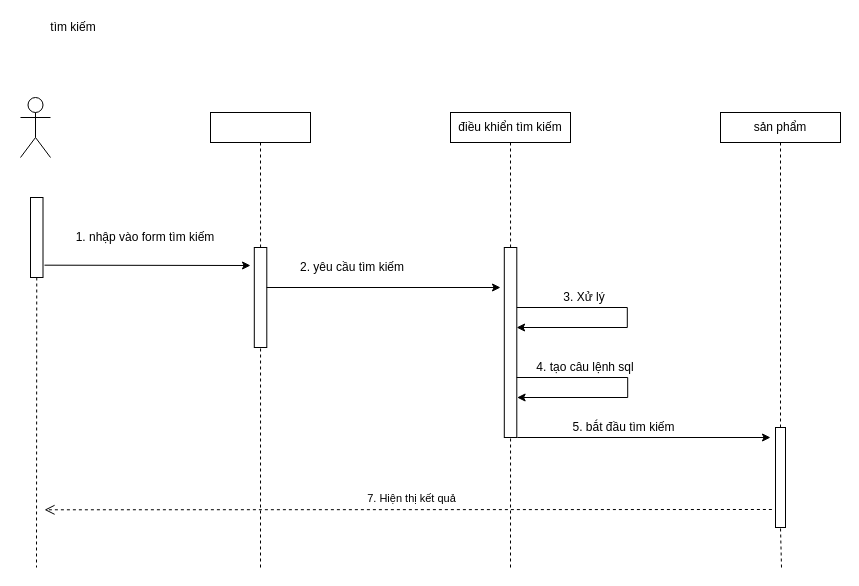
This 859x586 diagram has some shape labels left out. The box of each missing label's shape, as (x1, y1, x2, y2) in pixels:
Form tìm kiếm: (210, 112, 310, 142)
User: (20, 96, 50, 158)
